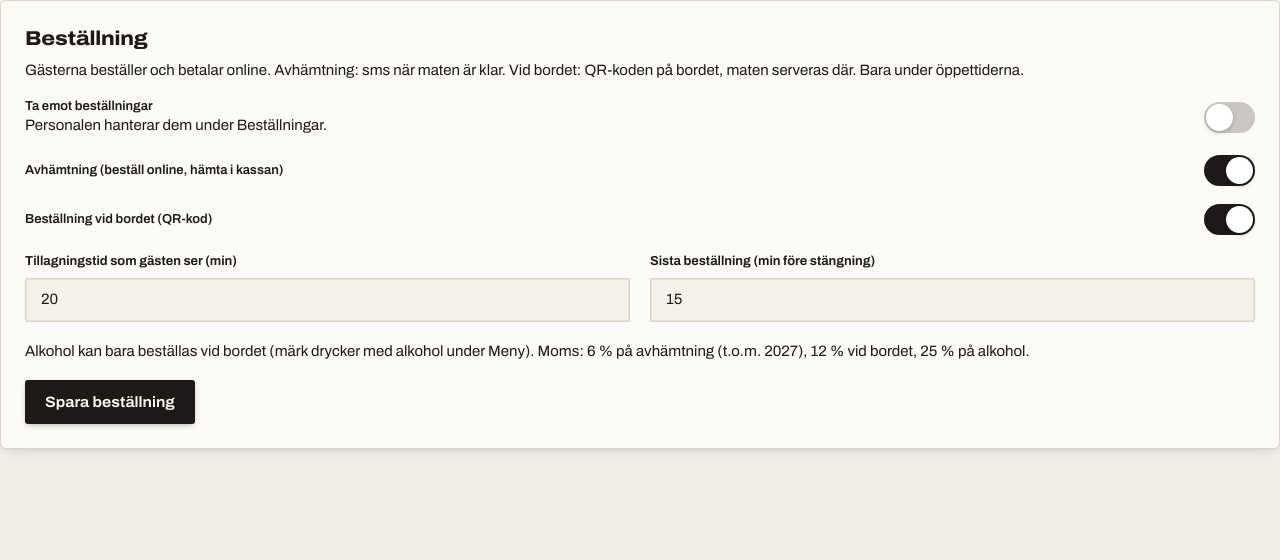
Test: OrderingCard › turns ordering on with a prep time
Step 1. Click the switch named "Ta emot beställningar" in the row of "Ta emot beställningar" → (1230, 117), box x1=1204 y1=102 x2=1255 y2=133
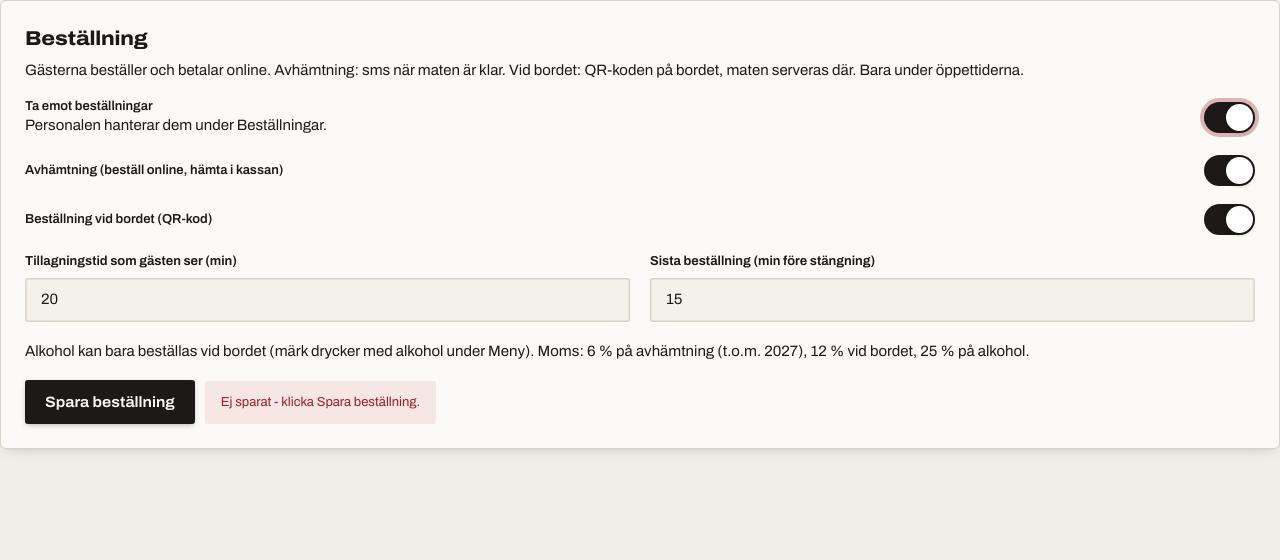
Step 2. Replace the text in the field labelled "Tillagningstid som gästen ser (min)" with "25" → (328, 300), box x1=25 y1=278 x2=630 y2=322
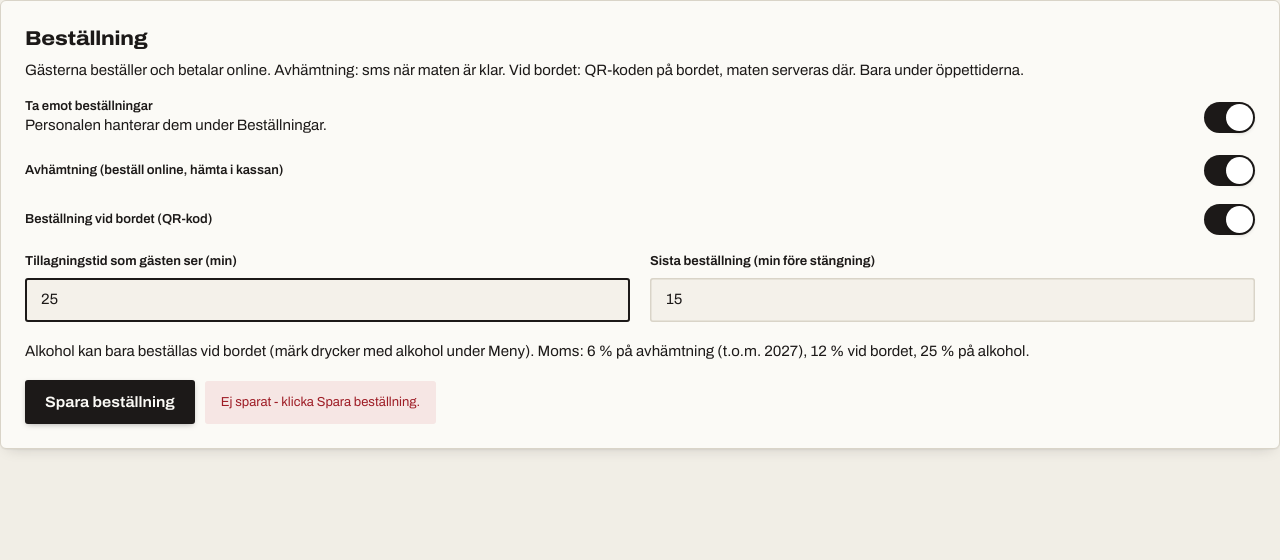
Step 3. Click the button "Spara beställning" → (110, 402), box x1=25 y1=380 x2=195 y2=424
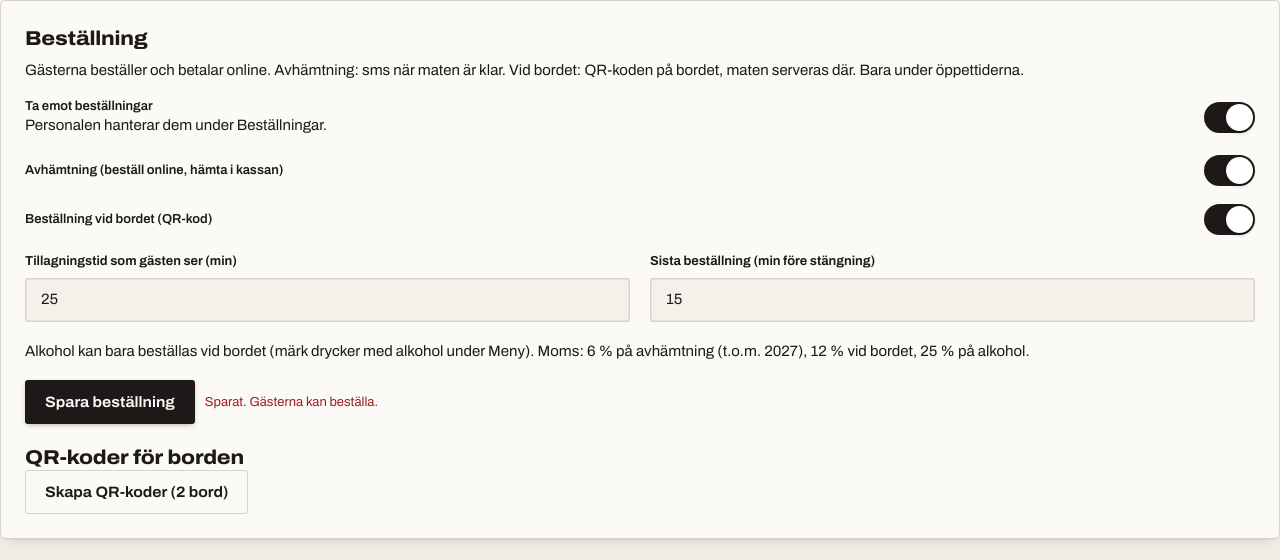
Now the text "Sparat. Gästerna kan beställa." is shown, box x1=205 y1=392 x2=378 y2=412
